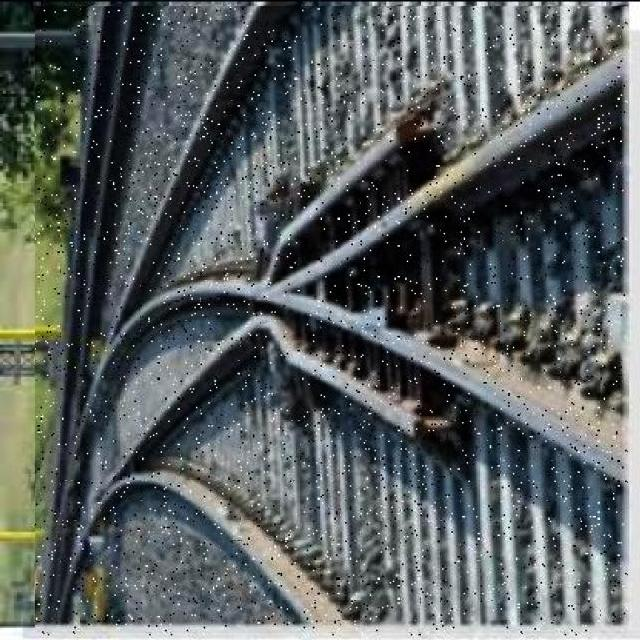rail: (37, 8, 628, 634)
